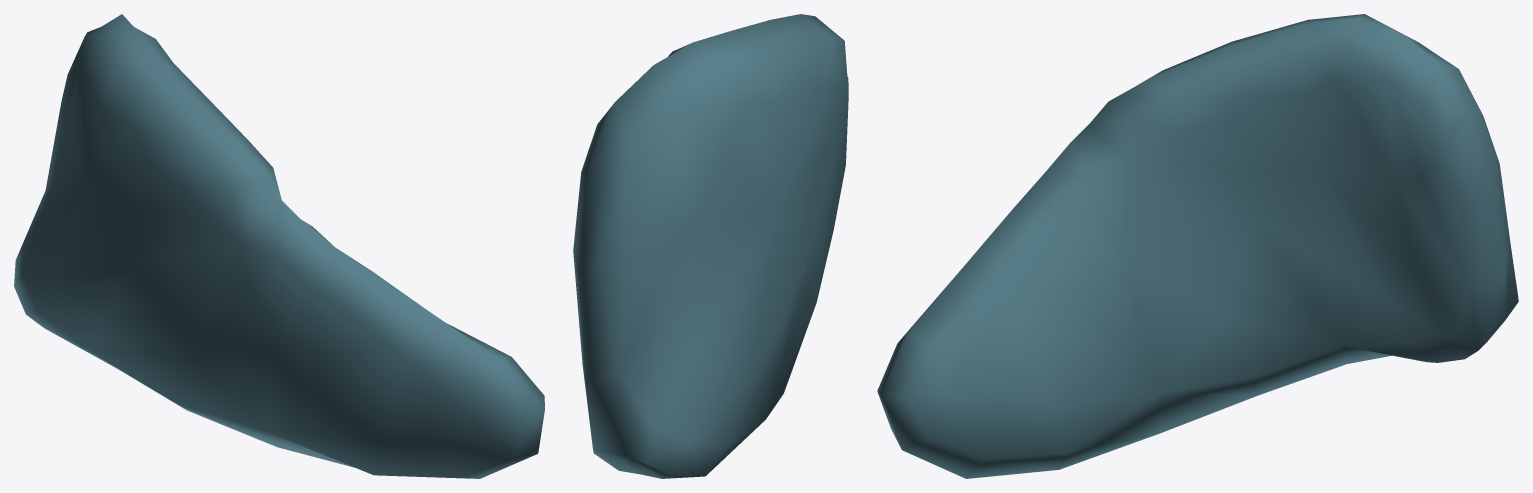
The model's file is Plantar_interossei_on_prox._phal._of_3rd_finger_of_foot.r_Gener.glb.
3 views of the same model, side by side, from view 1: azimuth 30°, elevation 25°; view 2: azimuth 150°, elevation 25°; view 3: azimuth 270°, elevation 25° (orthographic). The views are drawn at different scales.
Parts seen in each view (by area): view 1: Plantar_interossei_on_prox._phal._of_3rd_finger_of_foot.r_Ge; view 2: Plantar_interossei_on_prox._phal._of_3rd_finger_of_foot.r_Ge; view 3: Plantar_interossei_on_prox._phal._of_3rd_finger_of_foot.r_Ge.
Boxes of the visible parts, bbox=[...] form: Plantar_interossei_on_prox._phal._of_3rd_finger_of_foot.r_Ge: bbox=[14, 14, 544, 478]; Plantar_interossei_on_prox._phal._of_3rd_finger_of_foot.r_Ge: bbox=[573, 14, 848, 478]; Plantar_interossei_on_prox._phal._of_3rd_finger_of_foot.r_Ge: bbox=[877, 14, 1518, 478].
Bounding box in the file's own units: 0.00168 × 0.00226 × 0.00334.
